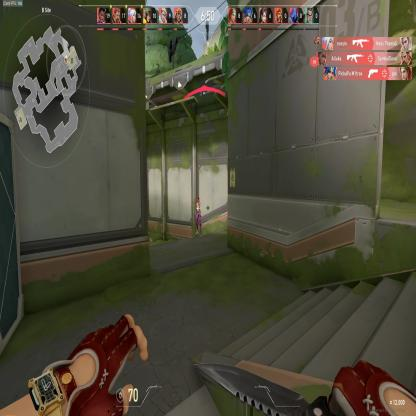enemy: (194, 194, 203, 236)
